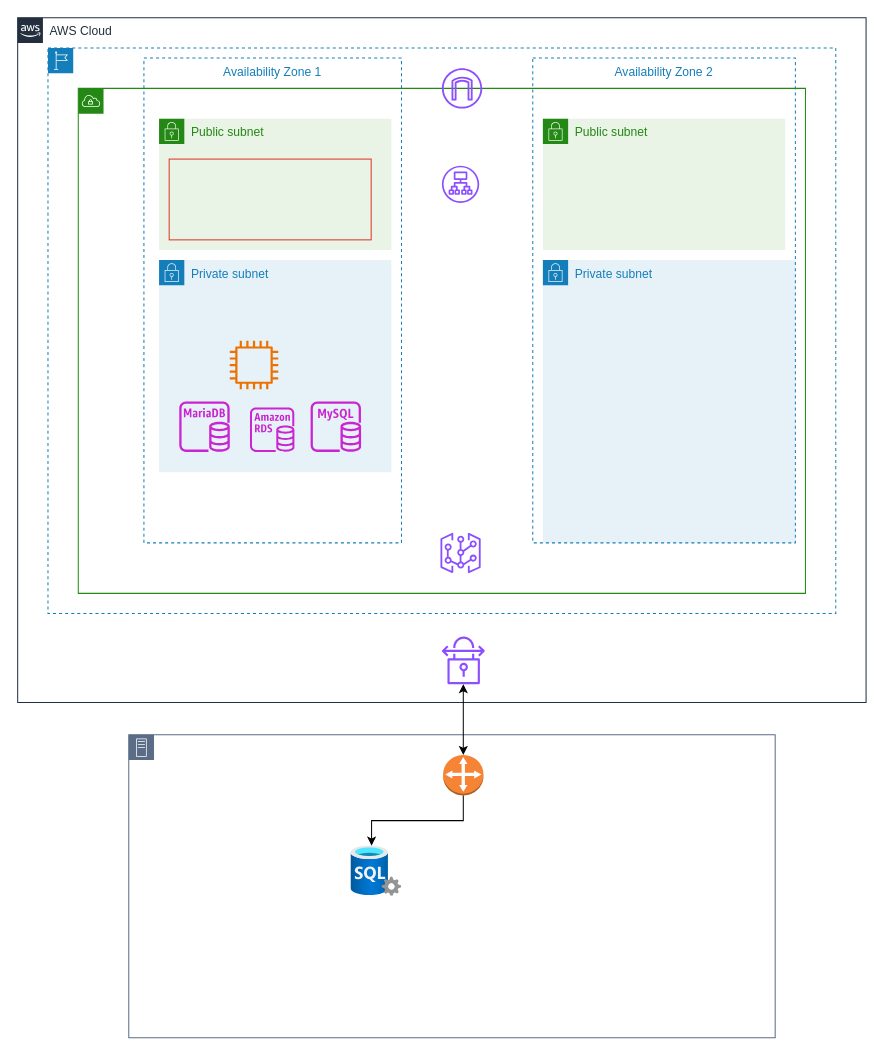
Image size: 884x1055. Some labels were removed from this diagram. The shapes that lost their labels are listed below. From the top down, each one's box as (x1, y1, x2, y2) in pixels, then its label:
(168, 158, 371, 240): Security group
(77, 87, 805, 593): VPC
(47, 47, 836, 614): Region
(128, 734, 775, 1038): On-premise server
